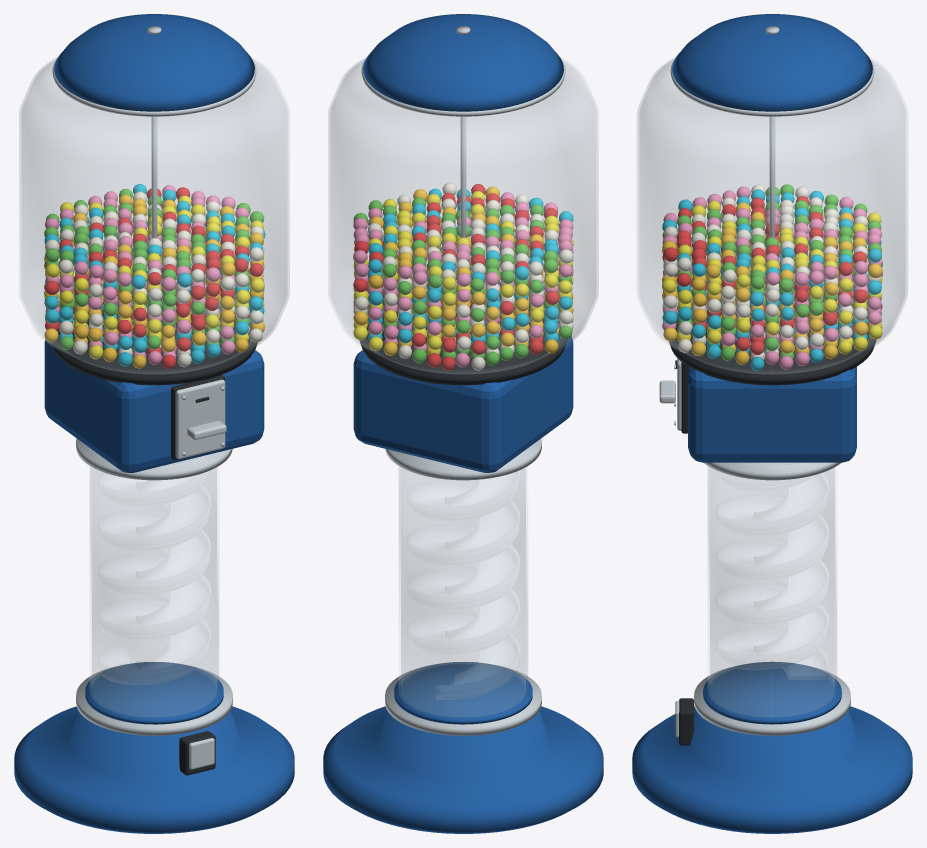
File: gumball-machine.glb
3 renders of one model, left to right at view 1: azimuth 30°, elevation 25°; view 2: azimuth 150°, elevation 25°; view 3: azimuth 270°, elevation 25°, orthographic.
Parts seen in each view (by area): view 1: Clear hopper shell, Enamel parts, Clear chute sleeve, Continuous spiral raceway, Chrome parts, Gum6 parts, Gum5 parts, Mechanism parts, Gum4 parts, Gum3 parts, Gum0 parts, Gum1 parts (+2 smaller); view 2: Clear hopper shell, Enamel parts, Clear chute sleeve, Continuous spiral raceway, Chrome parts, Gum5 parts, Gum3 parts, Gum6 parts, Gum2 parts, Gum4 parts, Gum1 parts, Gum0 parts (+1 smaller); view 3: Clear hopper shell, Enamel parts, Clear chute sleeve, Continuous spiral raceway, Chrome parts, Gum6 parts, Gum5 parts, Mechanism parts, Gum4 parts, Gum2 parts, Gum1 parts, Gum3 parts (+1 smaller).
Part boxes in pixels (x1,y1,x2,y2): Clear hopper shell: (19,58,289,373); Enamel parts: (14,14,294,833); Clear chute sleeve: (90,456,218,717); Continuous spiral raceway: (98,471,210,684); Chrome parts: (52,26,256,735); Gum6 parts: (44,191,264,367); Gum5 parts: (44,185,263,364); Mechanism parts: (51,293,257,775); Gum4 parts: (44,184,265,366); Gum3 parts: (44,189,264,351); Gum0 parts: (44,187,263,369); Gum1 parts: (44,194,265,368); Clear hopper shell: (328,58,598,373); Enamel parts: (323,14,603,833); Clear chute sleeve: (399,456,527,717); Continuous spiral raceway: (407,471,519,699); Chrome parts: (361,26,565,735); Gum5 parts: (353,192,573,367); Gum3 parts: (353,197,572,365); Gum6 parts: (353,182,573,370); Gum2 parts: (353,191,573,355); Gum4 parts: (354,188,573,351); Gum1 parts: (353,186,573,355); Gum0 parts: (353,184,572,370); Clear hopper shell: (637,58,907,373); Enamel parts: (632,14,912,833); Clear chute sleeve: (708,463,836,717); Continuous spiral raceway: (716,471,828,679); Chrome parts: (670,26,874,735); Gum6 parts: (662,184,882,360); Gum5 parts: (662,186,882,369); Mechanism parts: (669,290,876,745); Gum4 parts: (662,189,882,370); Gum2 parts: (662,200,882,354); Gum1 parts: (662,202,882,364); Gum3 parts: (662,184,882,360).
Size of the model in its own units: 1.86 by 5.49 by 1.86.
